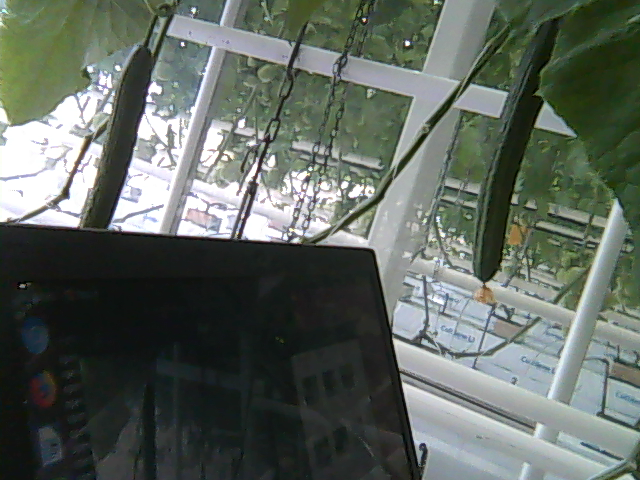concombre: (471, 14, 559, 309), (71, 41, 158, 232)
